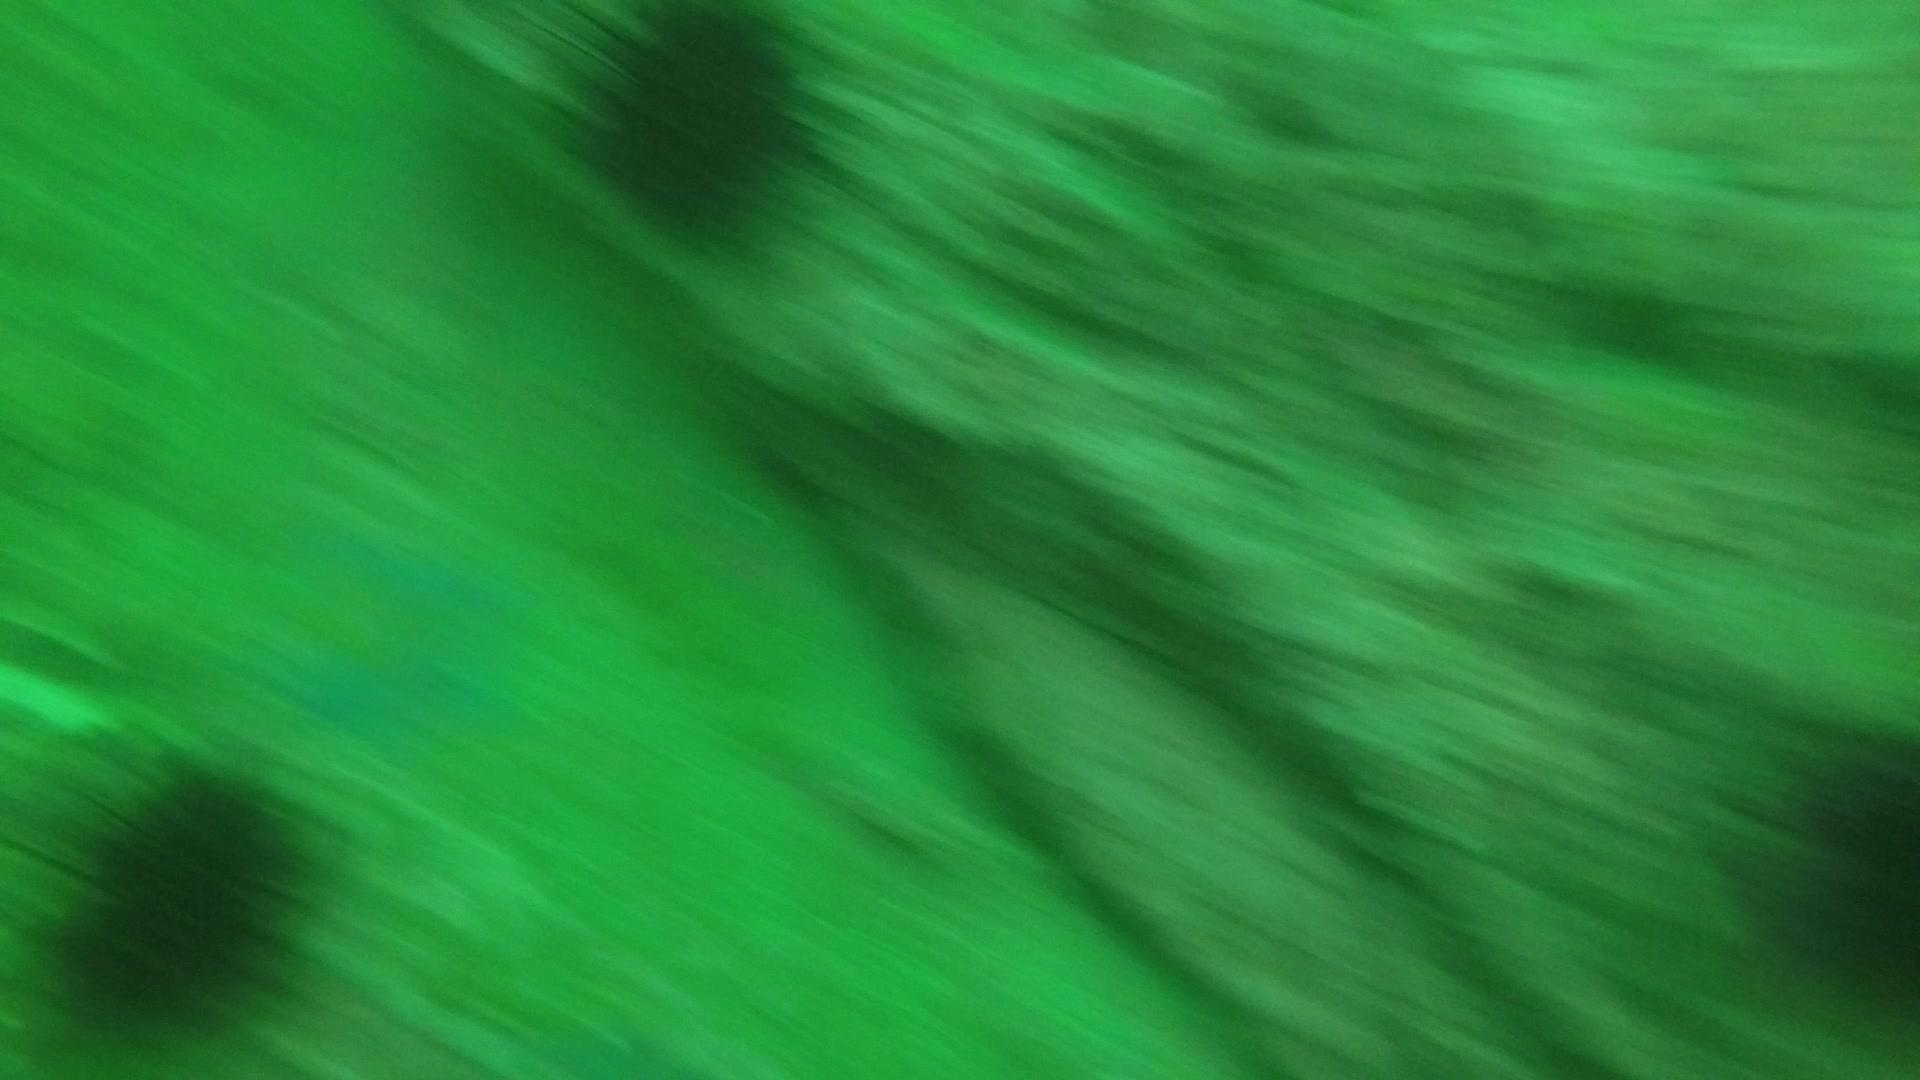echinus: (33, 756, 320, 1047), (553, 3, 833, 252), (1716, 705, 1920, 1026)
starfish: (237, 506, 543, 753)
